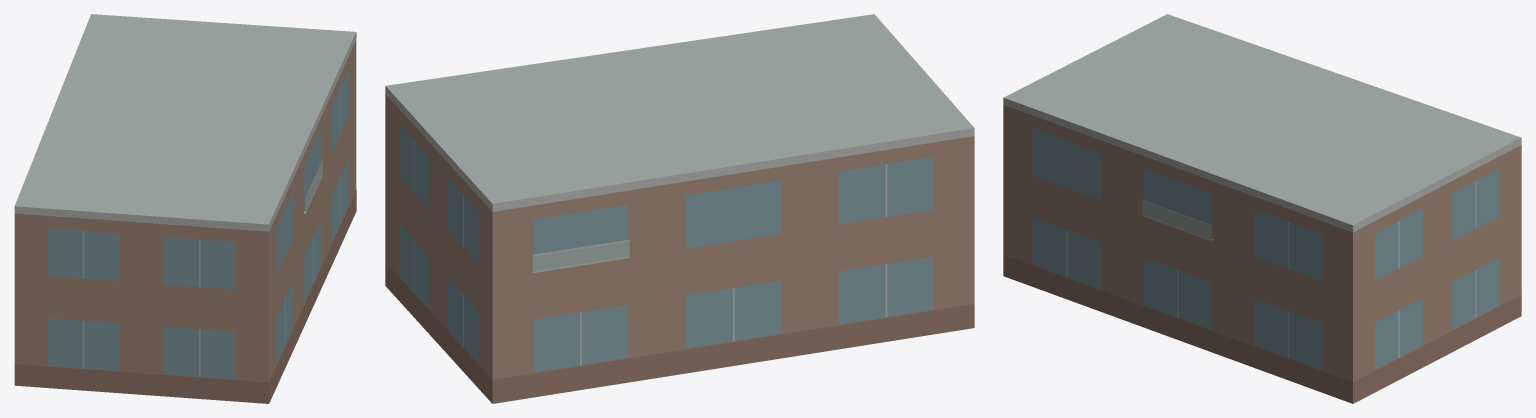
Rendered from survey-upis-32659131.glb.
The picture shows the model from 3 angles, left to right: view 1: azimuth 30°, elevation 25°; view 2: azimuth 150°, elevation 25°; view 3: azimuth 270°, elevation 25°; orthographic projection. The views are drawn at different scales.
Parts seen in each view (by area): view 1: survey-upis-32659131.tmp; view 2: survey-upis-32659131.tmp; view 3: survey-upis-32659131.tmp.
Boxes of the visible parts, x1=… form: survey-upis-32659131.tmp: x1=14, y1=14, x2=356, y2=403; survey-upis-32659131.tmp: x1=385, y1=14, x2=974, y2=403; survey-upis-32659131.tmp: x1=1003, y1=14, x2=1521, y2=403.
Bounding box in the file's own units: 15.5 × 6.1 × 16.06.
